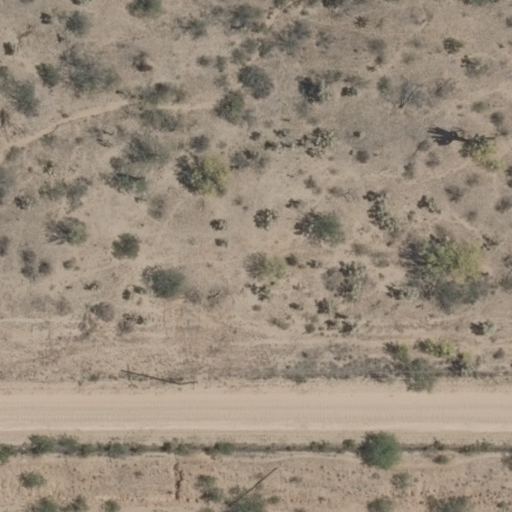DT: (169, 376, 202, 391)
